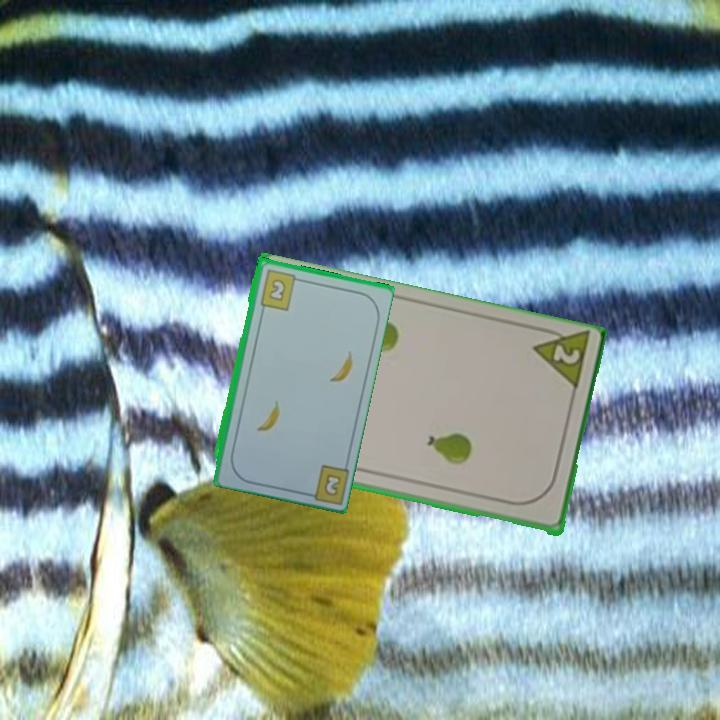2b: (256, 266, 304, 313), (322, 470, 344, 496)
2p: (527, 322, 592, 396)
